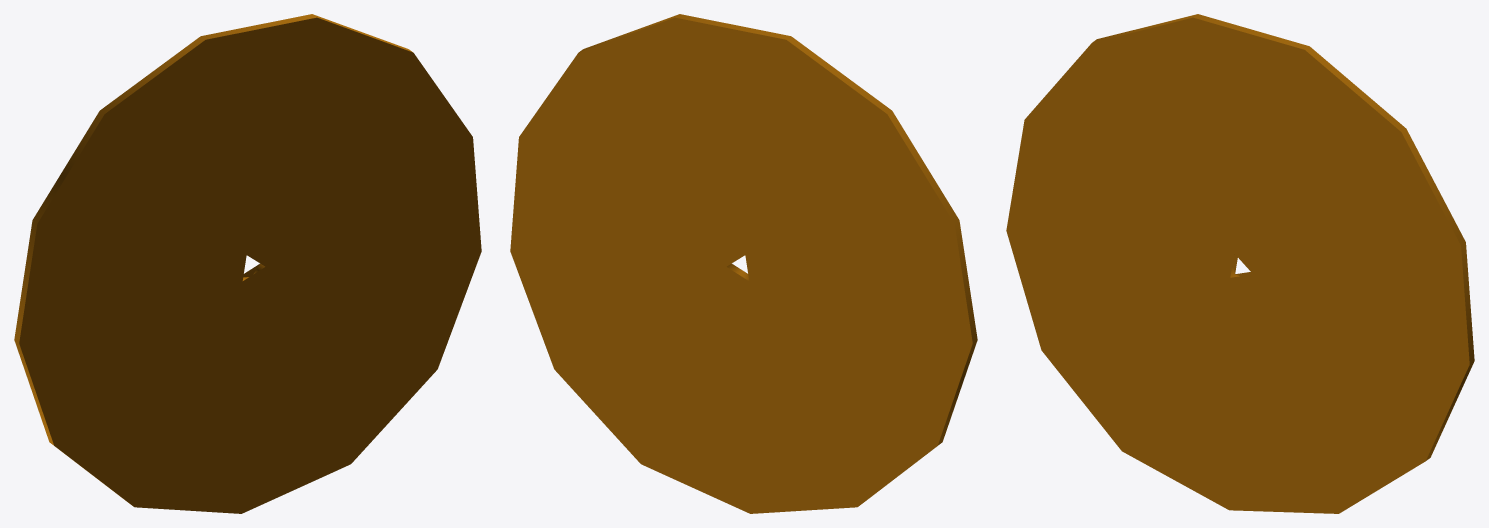
File: Copie de Disque en laiton^Copie de Assemblage2_Horloge Comtoise Verge - Sonnerie.obj
The picture shows the model from 3 angles, left to right: view 1: azimuth 30°, elevation 25°; view 2: azimuth 150°, elevation 25°; view 3: azimuth 330°, elevation 25°; orthographic projection.
Visible parts, largest first — view 1: Face_1, Face_3; view 2: Face_4, Face_3; view 3: Face_1, Face_3.
Boxes of the visible parts, left/top/right/bottom form: Face_1: left=19, top=17, right=481, bottom=513; Face_3: left=14, top=14, right=412, bottom=503; Face_4: left=510, top=17, right=972, bottom=513; Face_3: left=579, top=14, right=977, bottom=503; Face_1: left=1006, top=17, right=1469, bottom=513; Face_3: left=1092, top=14, right=1474, bottom=460.
Bounding box in the file's own units: 0.0327 × 0.0327 × 0.0006.
